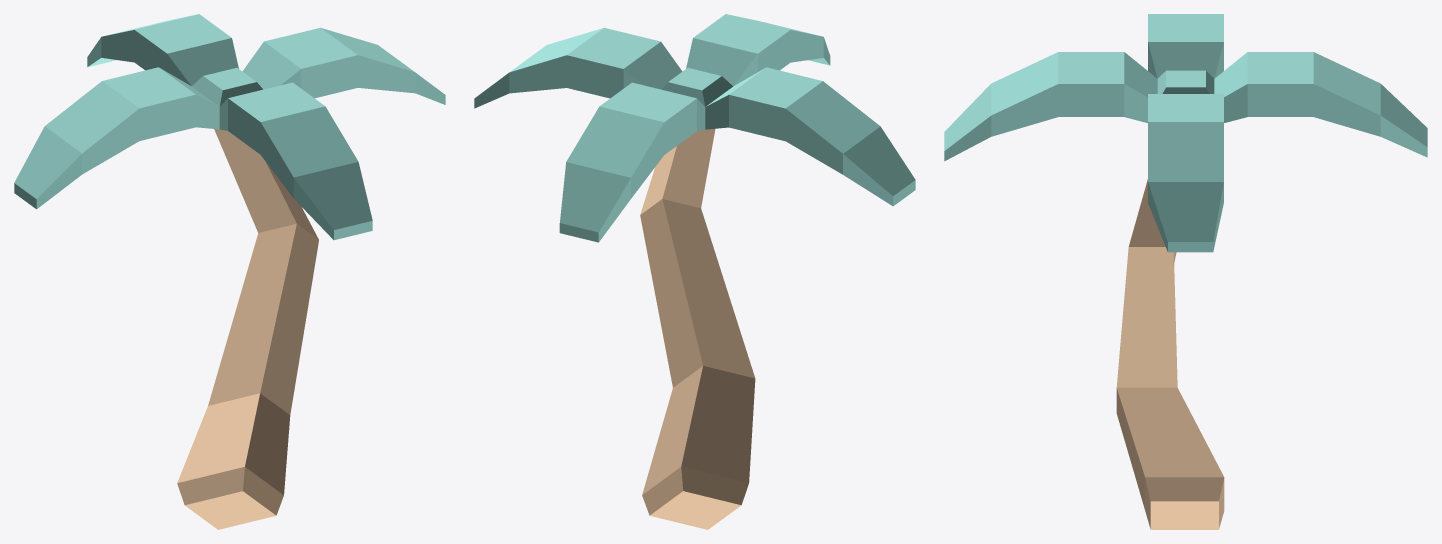
The model's file is palm_small.glb.
The picture shows the model from 3 angles, left to right: view 1: azimuth 30°, elevation 25°; view 2: azimuth 150°, elevation 25°; view 3: azimuth 270°, elevation 25°; orthographic projection.
Visible parts, largest first — view 1: Group 157, Group 155; view 2: Group 157, Group 155; view 3: Group 157, Group 155.
Boxes of the visible parts, x1=… form: Group 157: x1=14, y1=14, x2=445, y2=240; Group 155: x1=177, y1=129, x2=318, y2=529; Group 157: x1=474, y1=14, x2=915, y2=242; Group 155: x1=640, y1=128, x2=755, y2=529; Group 157: x1=944, y1=14, x2=1427, y2=252; Group 155: x1=1116, y1=179, x2=1224, y2=529.
Size of the model in its own units: 7.72 by 7.88 by 7.72.
